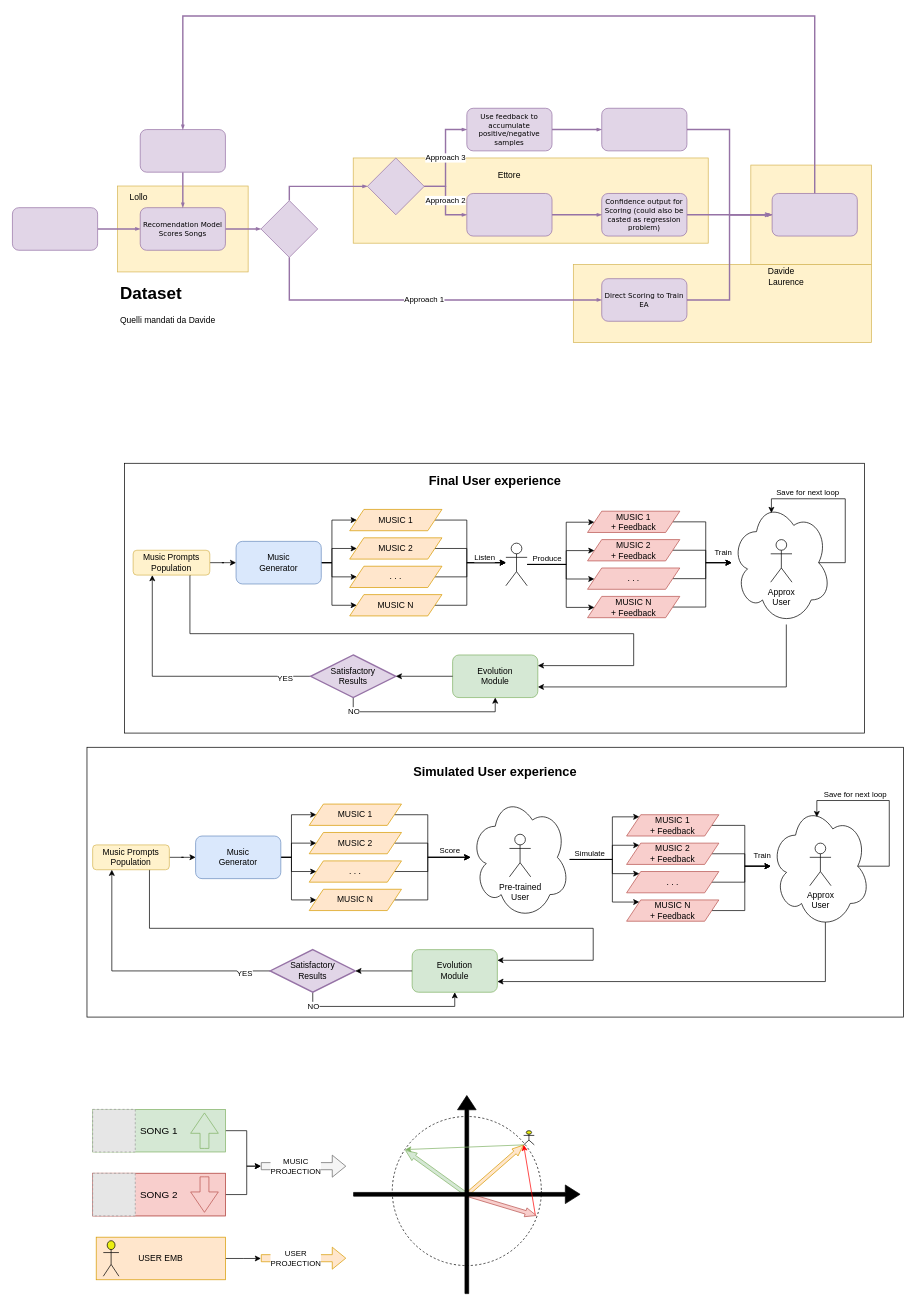
Some shapes in this 916 by 1306 pixel diagram are drawn without their labels. Grey dashed boxes stand in for pictures. Each missing label, with the centre of its shape:
"EA Evolution of Song Recomendations" belongs at point (814, 214).
"Present Evolved Songs to User" belongs at point (182, 150).
"Score Songs" belongs at point (289, 228).
"Score Songs based on the estimated user embedding" belongs at point (644, 129).
"Simulate User Behavior" belongs at point (395, 186).
"Start: Initialzie Population of Songs & User Embedding" belongs at point (55, 228).
"Train Shallow Models to Mimic User Behaviour" belongs at point (509, 214).
"User" belongs at point (516, 564).
